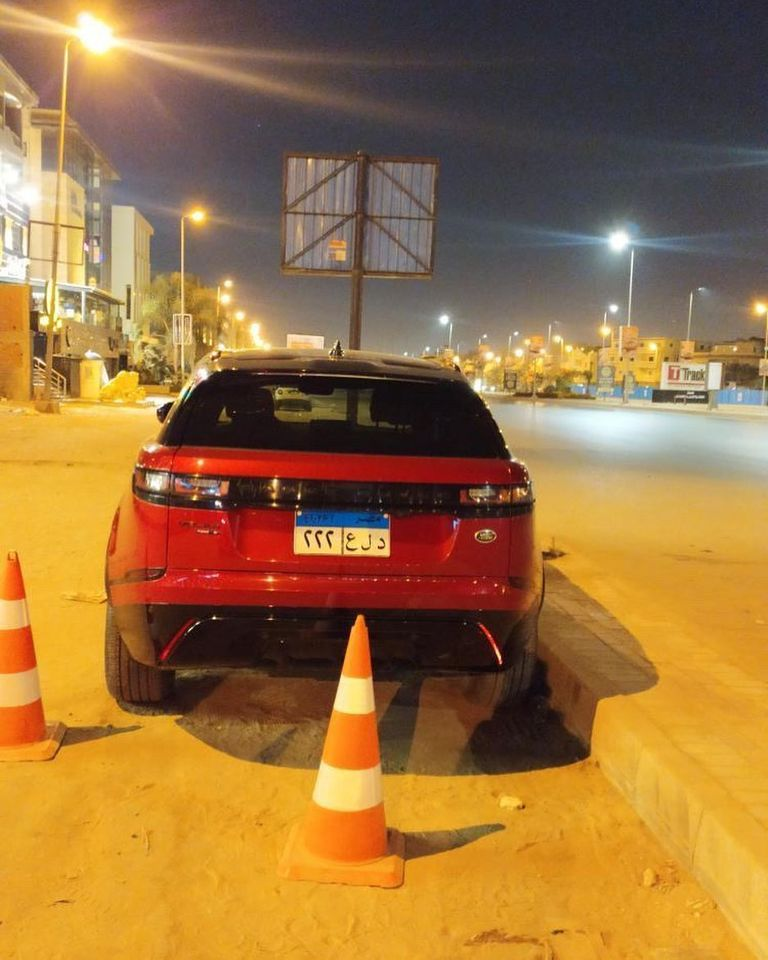carpl: (296, 511, 394, 556)
